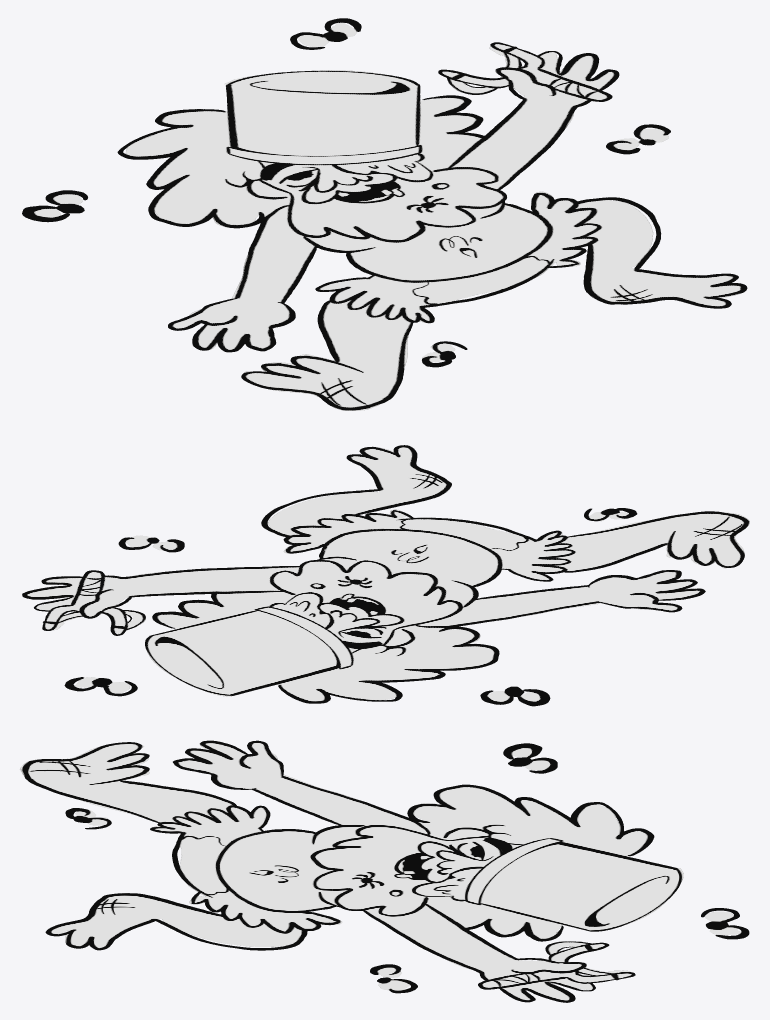
File: Idle 1.fbx
3 renders of one model, top to bottom at view 1: azimuth 30°, elevation 25°; view 2: azimuth 150°, elevation 25°; view 3: azimuth 270°, elevation 25°, orthographic. The views are drawn at different scales.
Visible parts, largest first — view 1: Curve.001; view 2: Curve.001; view 3: Curve.001.
Part boxes in pixels (<box>): Curve.001: <box>22,18,747,410</box>; Curve.001: <box>22,445,749,706</box>; Curve.001: <box>20,740,749,1002</box>.
Size of the model in its own units: 82.17 by 0 by 96.15.
